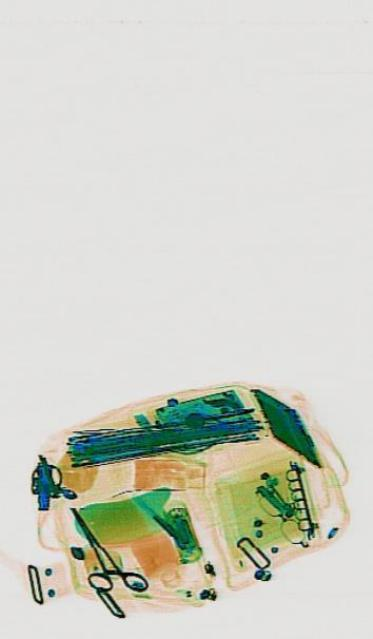Scissors: (56, 479, 148, 631)
